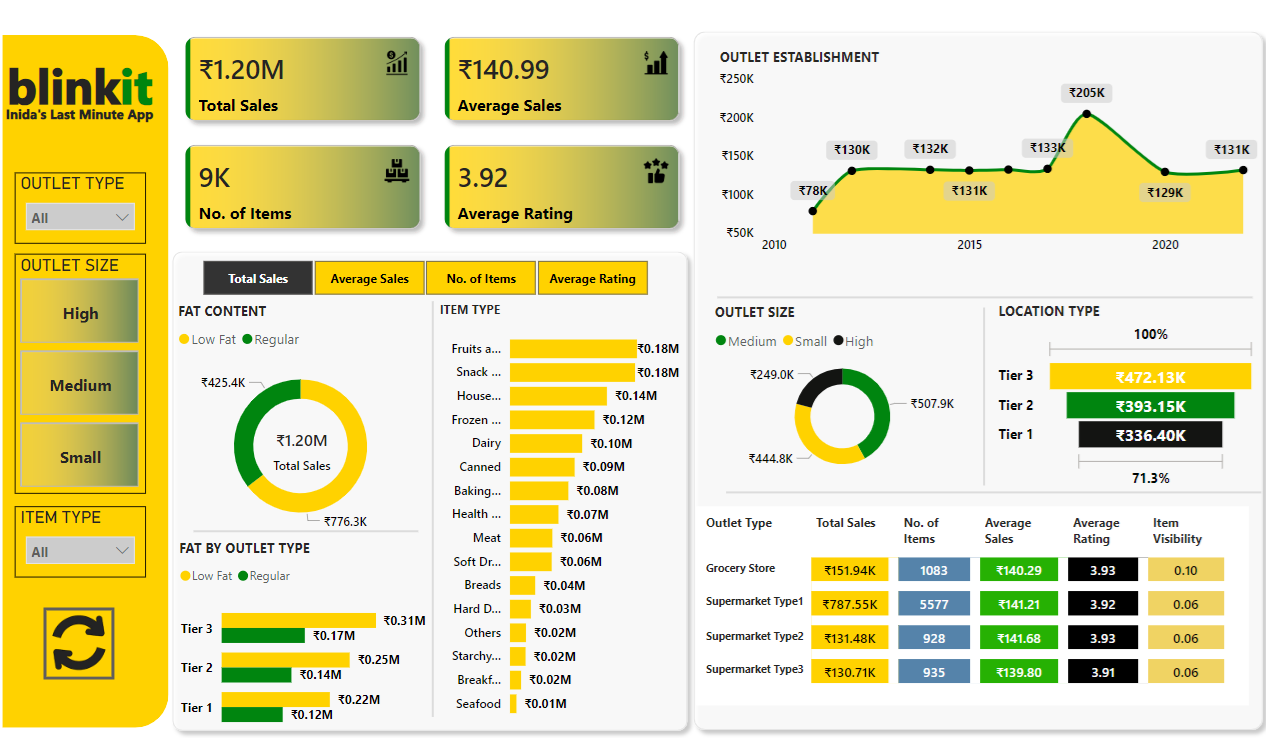

The dashboard page shown, as its layout file describes it:
{"tool":"powerbi","page":{"name":"Home Page","canvas":[1280,720],"ordinal":0},"visuals":[{"type":"shape","box":[10.9,14.5,166.4,692.7],"z":0},{"type":"textbox","box":[5.5,27.4,167.4,85.1],"z":1000},{"type":"textbox","box":[0,79.6,177,32.9],"z":2000},{"type":"cardVisual","fields":{"Data":["BlinkIT Grocery Data.Total Sales","BlinkIT Grocery Data.Average Sales","BlinkIT Grocery Data.No. of Items","BlinkIT Grocery Data.Average Rating"]},"box":[177.5,0,528.8,222.5],"z":3000},{"type":"shape","box":[172.9,222.9,532.9,497.1],"z":4000},{"type":"slicer","fields":{"Values":["Metrics.Metrics"]},"box":[186.6,233.3,494,48],"z":5000},{"type":"donutChart","title":"FAT CONTENT","fields":{"Y":["BlinkIT Grocery Data.Total Sales"],"Category":["BlinkIT Grocery Data.Item Fat Content"]},"box":[186.6,281.3,247,237.4],"z":6000},{"type":"card","fields":{"Values":["BlinkIT Grocery Data.Total Sales"]},"box":[251.1,400.7,119.4,57.6],"z":7000},{"type":"clusteredBarChart","title":"FAT BY OUTLET TYPE","fields":{"Y":["BlinkIT Grocery Data.Total Sales"],"Category":["BlinkIT Grocery Data.Outlet Location Type"],"Series":["BlinkIT Grocery Data.Item Fat Content"]},"box":[186,519,250,201],"z":8000},{"type":"shape","box":[202,491,225,40],"z":9000},{"type":"shape","box":[422.9,281.4,38.6,415.7],"z":10000},{"type":"barChart","title":"ITEM TYPE","fields":{"Y":["BlinkIT Grocery Data.Total Sales"],"Category":["BlinkIT Grocery Data.Item Type"]},"box":[433.6,281.3,259.3,426.8],"z":11000},{"type":"shape","box":[693.3,2.4,587,716.6],"z":12000},{"type":"lineChart","title":"OUTLET ESTABLISHMENT","fields":{"Category":["BlinkIT Grocery Data.Outlet Establishment Year"],"Y":["BlinkIT Grocery Data.Total Sales"]},"box":[723.2,27.4,547.5,215.4],"z":13000},{"type":"donutChart","title":"OUTLET SIZE","fields":{"Y":["BlinkIT Grocery Data.Total Sales"],"Category":["BlinkIT Grocery Data.Outlet Size"]},"box":[723.2,282.7,255.2,175.6],"z":14000},{"type":"shape","box":[725.9,258,535.2,39.8],"z":15000},{"type":"funnel","title":"LOCATION TYPE","fields":{"Y":["BlinkIT Grocery Data.Total Sales"],"Category":["BlinkIT Grocery Data.Outlet Location Type"]},"box":[1002.7,281.3,267.8,190.8],"z":16000},{"type":"shape","box":[978,288,31,178],"z":17000},{"type":"shape","box":[735.5,452.8,535.2,39.8],"z":18000},{"type":"pivotTable","fields":{"Rows":["BlinkIT Grocery Data.Outlet Type"],"Values":["BlinkIT Grocery Data.Total Sales","BlinkIT Grocery Data.No. of Items","BlinkIT Grocery Data.Average Sales","BlinkIT Grocery Data.Average Rating","Avg(BlinkIT Grocery Data.Item Visibility)"]},"box":[705.6,486.7,552.7,199.3],"z":19000},{"type":"slicer","title":"OUTLET TYPE","fields":{"Values":["BlinkIT Grocery Data.Outlet Location Type"]},"box":[23.2,152.9,130.8,70.9],"z":20000},{"type":"advancedSlicerVisual","title":"OUTLET SIZE","fields":{"Values":["BlinkIT Grocery Data.Outlet Size"]},"box":[23.2,233.6,130.8,239.7],"z":21000},{"type":"slicer","title":"ITEM TYPE","fields":{"Values":["BlinkIT Grocery Data.Item Type"]},"box":[23.2,486.7,130.8,70.9],"z":22000},{"type":"image","box":[47.7,582.1,80.7,80.7],"z":23000},{"type":"actionButton","box":[52.6,587,70.9,72.1],"z":24000}]}

Visuals, with their boxes on the page's 1280x720 design canvas (x1, y1, x2, y2). These are canvas units, not pixel positions in the 1277x751 screenshot, which may show the page scaled, cropped or inside an application window:
shape: 11/14/177/707
textbox: 6/27/173/112
textbox: 0/80/177/112
cardVisual - BlinkIT Grocery Data.Total Sales x BlinkIT Grocery Data.Average Sales: 178/0/706/222
shape: 173/223/706/720
slicer - Metrics.Metrics: 187/233/681/281
"FAT CONTENT" donutChart: 187/281/434/519
card - BlinkIT Grocery Data.Total Sales: 251/401/370/458
"FAT BY OUTLET TYPE" clusteredBarChart: 186/519/436/720
shape: 202/491/427/531
shape: 423/281/462/697
"ITEM TYPE" barChart: 434/281/693/708
shape: 693/2/1280/719
"OUTLET ESTABLISHMENT" lineChart: 723/27/1271/243
"OUTLET SIZE" donutChart: 723/283/978/458
shape: 726/258/1261/298
"LOCATION TYPE" funnel: 1003/281/1270/472
shape: 978/288/1009/466
shape: 736/453/1271/493
pivotTable - BlinkIT Grocery Data.Outlet Type x BlinkIT Grocery Data.Total Sales: 706/487/1258/686
"OUTLET TYPE" slicer: 23/153/154/224
"OUTLET SIZE" advancedSlicerVisual: 23/234/154/473
"ITEM TYPE" slicer: 23/487/154/558
image: 48/582/128/663
actionButton: 53/587/124/659
